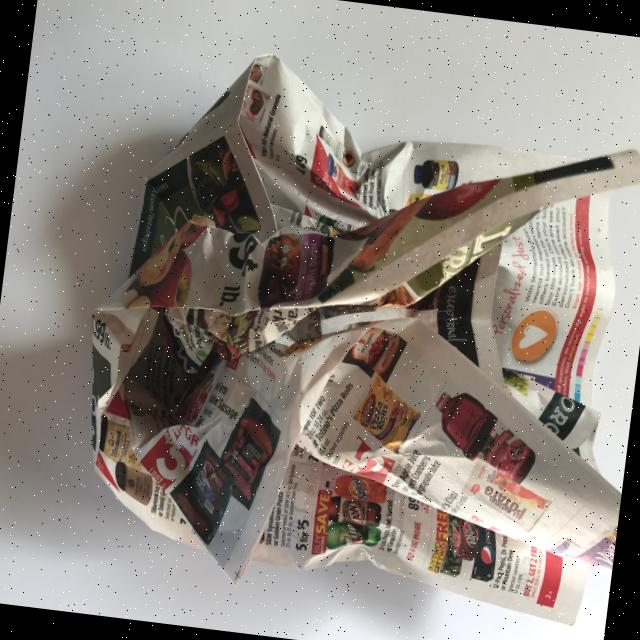paper: (60, 35, 640, 631)
